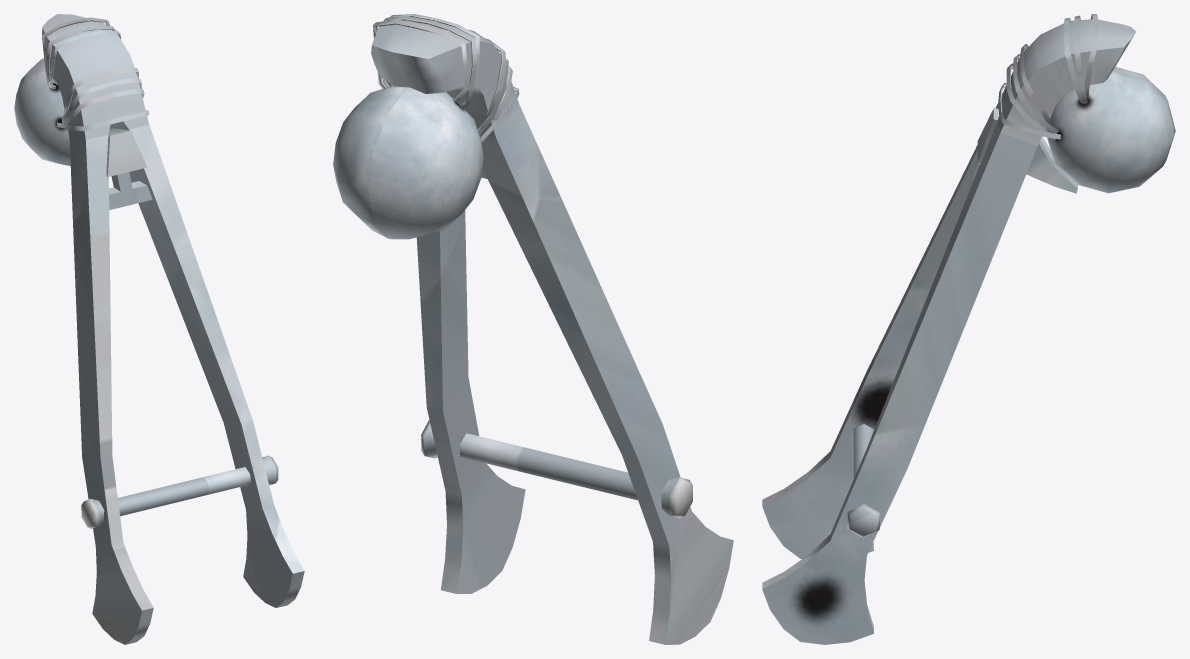
The model's file is weapon-bronzeweapons.glb.
3 renders of one model, left to right at view 1: azimuth 30°, elevation 25°; view 2: azimuth 150°, elevation 25°; view 3: azimuth 270°, elevation 25°, orthographic. The views are drawn at different scales.
Bounding box in the file's own units: 1.77 × 4.67 × 3.04.
Materials: 1 (1 with a texture image).
